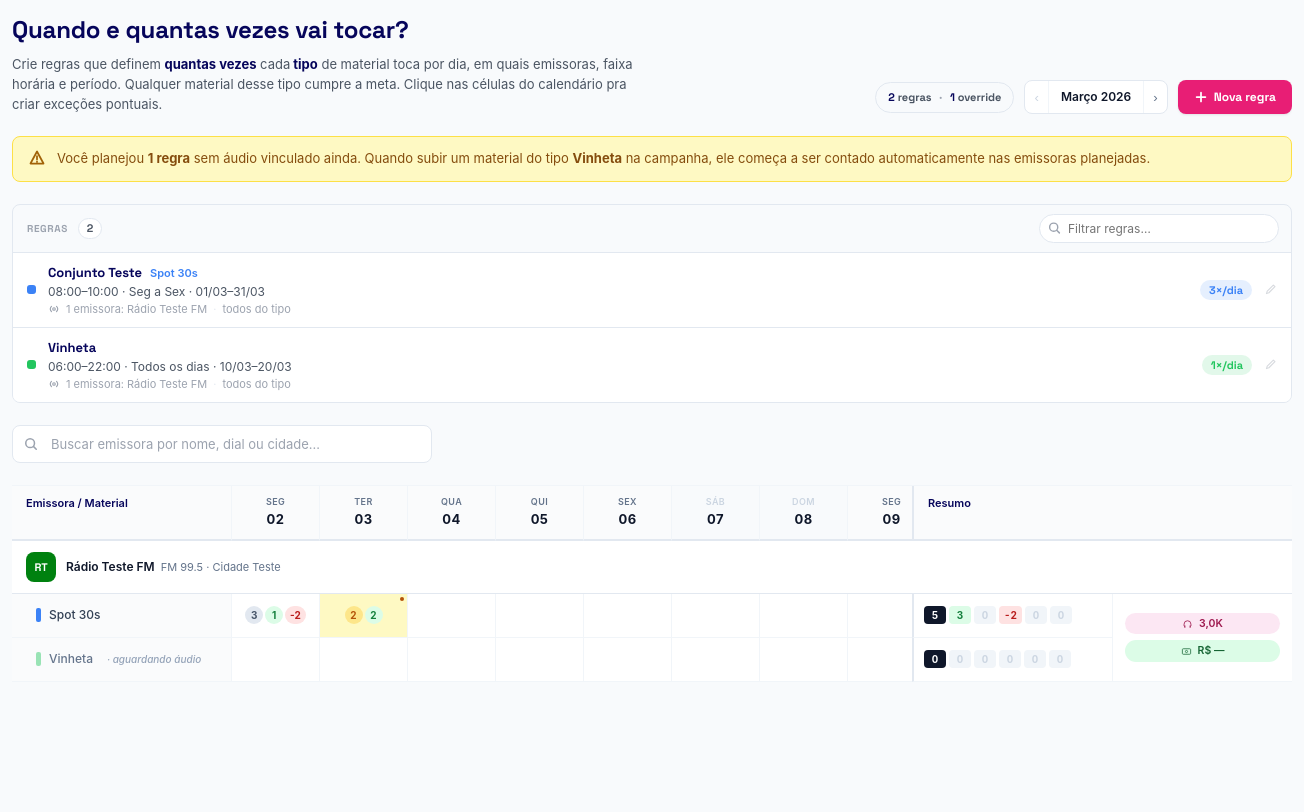
DistributionStep — filtros › navegar de mês busca o resumo e os overrides do mês seguinte
Expected: the heading "Quando e quantas vezes vai tocar?" is shown, [12, 14, 409, 45]
Click the button "›" at {"x": 1156, "y": 97}, box [1144, 83, 1167, 112]
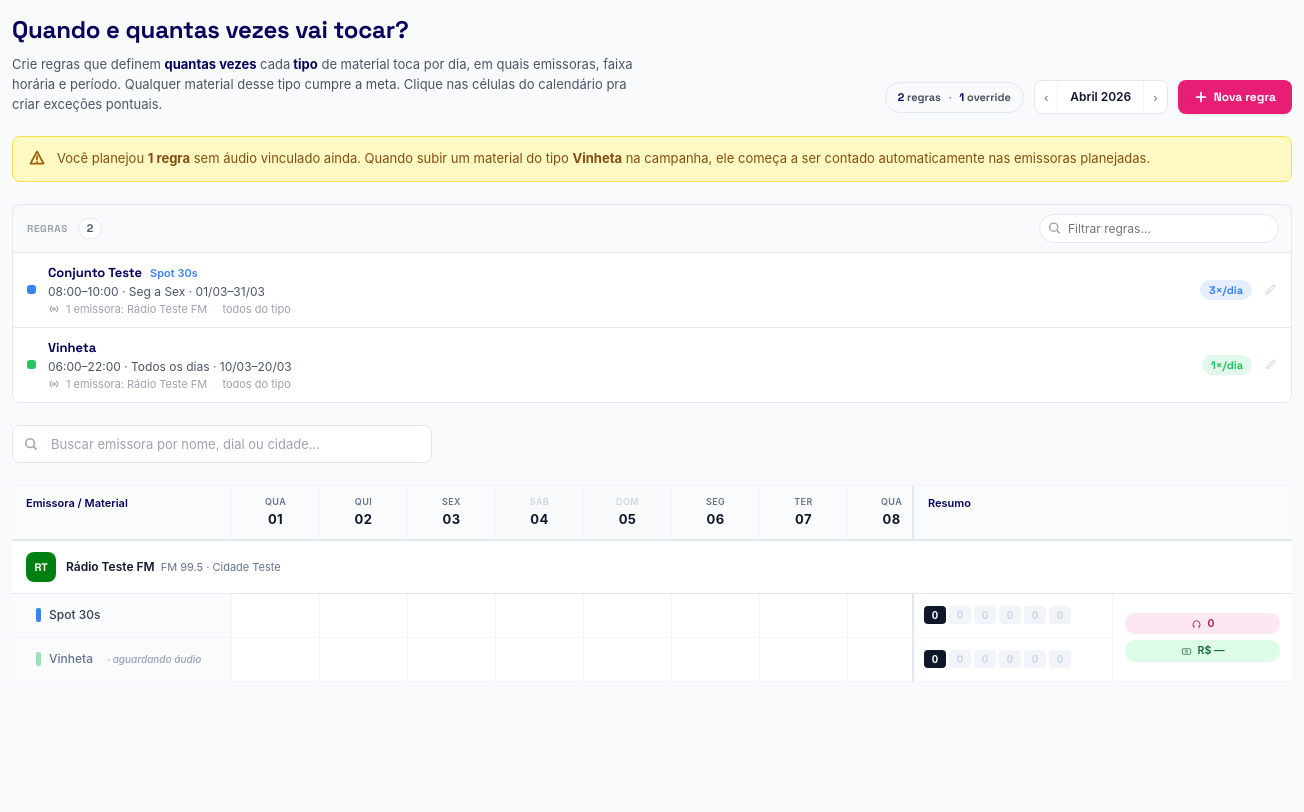
Now the text "Abril 2026" is shown, box [1057, 81, 1144, 113]
